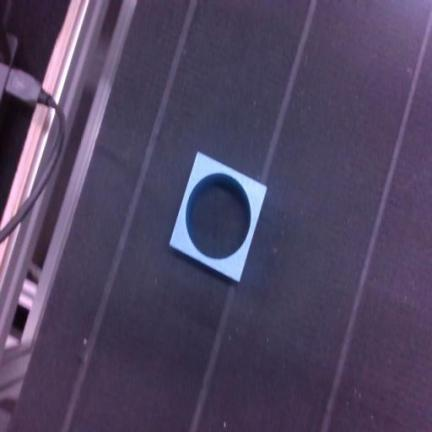hole: (170, 152, 266, 281)
